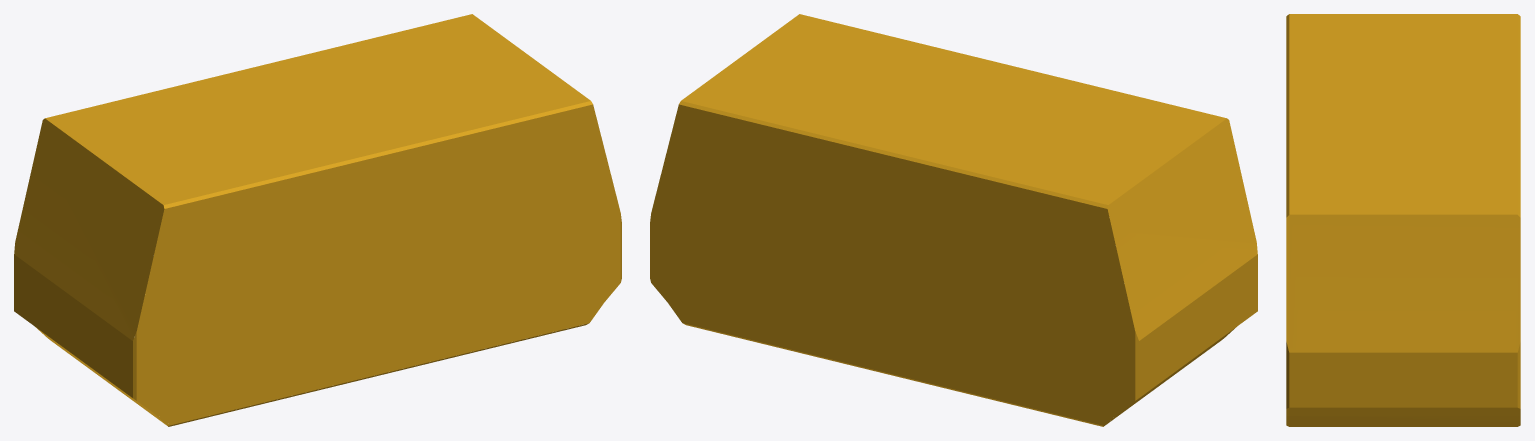
File: takoz-mtb-150-side-buffer-02.glb
3 renders of one model, left to right at view 1: azimuth 30°, elevation 25°; view 2: azimuth 150°, elevation 25°; view 3: azimuth 270°, elevation 25°, orthographic. The views are drawn at different scales.
Visible parts, largest first — view 1: body; view 2: body; view 3: body.
Part boxes in pixels (box(x1,y1,x2,y2)): body: box(14, 14, 621, 426); body: box(650, 14, 1257, 426); body: box(1286, 14, 1520, 426).
Bounding box in the file's own units: 0.195 × 0.085 × 0.084.
